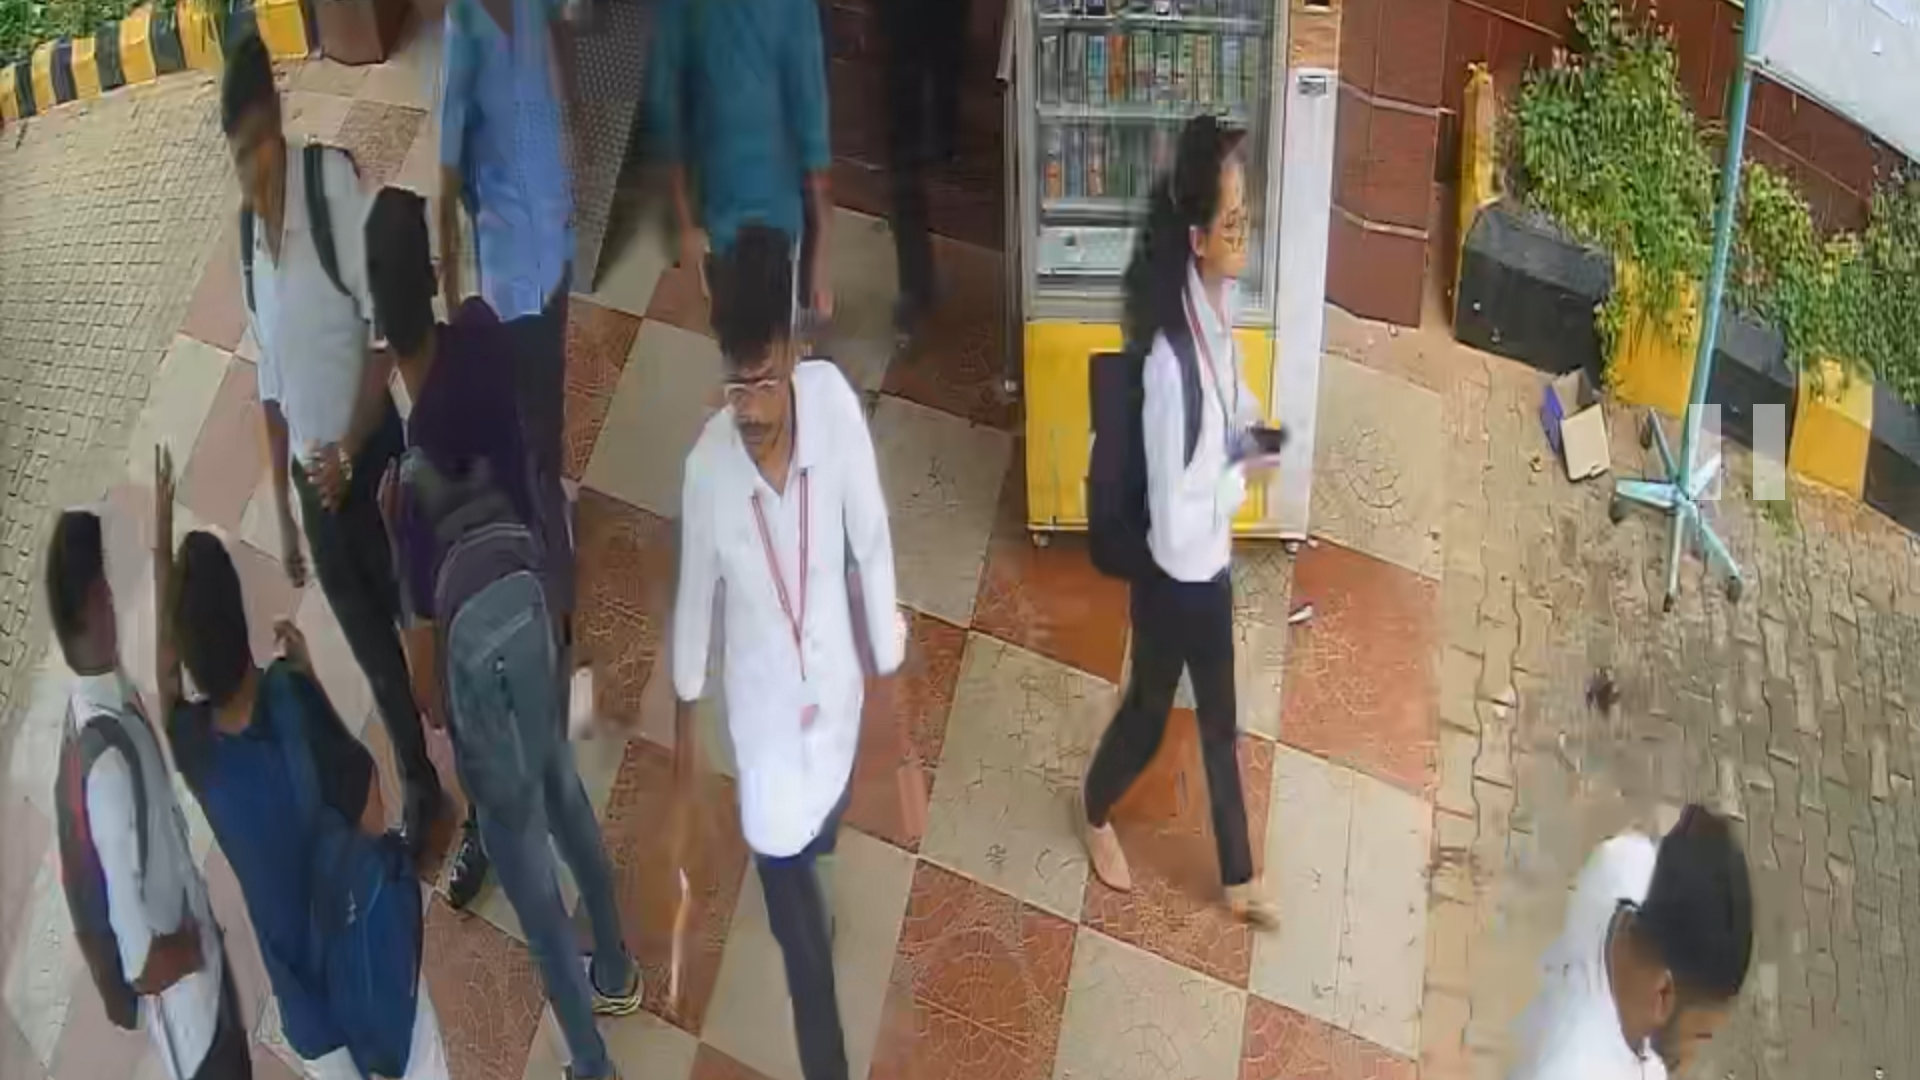not intruder: (661, 237, 887, 1080), (1073, 112, 1284, 920)
